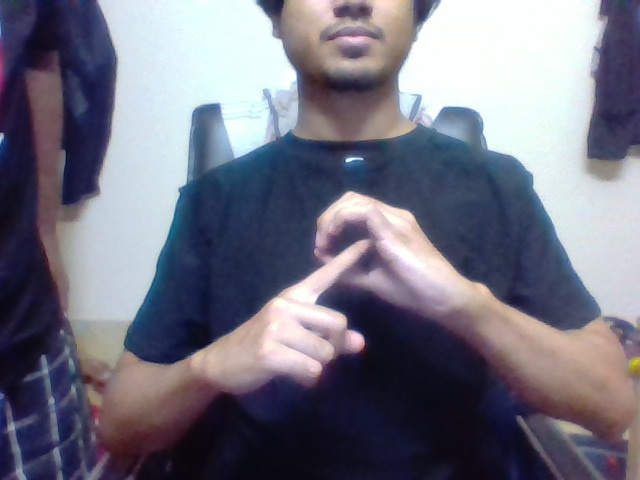Q: (321, 212, 396, 295)
